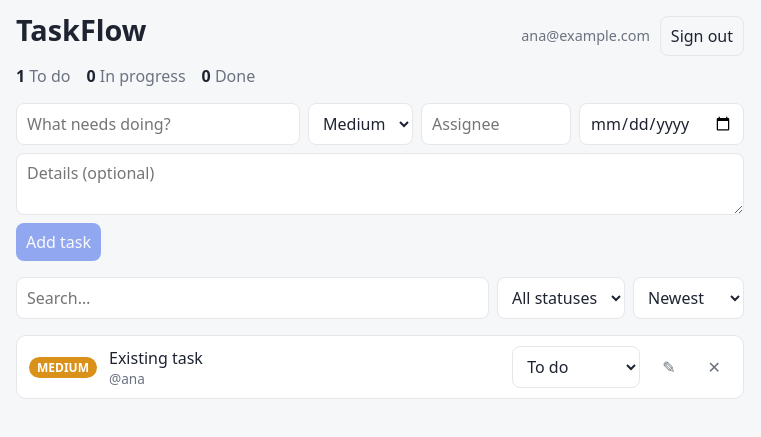
Scenario: tasks › shows an error on the task when deleting fails, and keeps it
Check: the text "Existing task" is shown, box [109,346,203,368]
Click the button named "Delete Existing task": click(714, 367) [698,348,731,386]
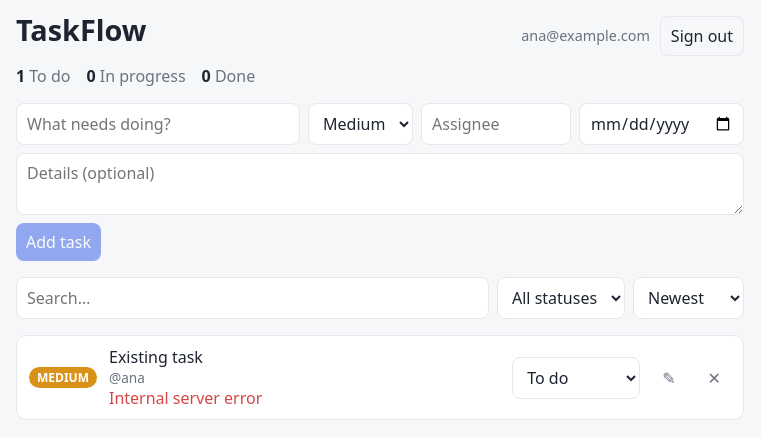
Check: the text "Existing task" is shown, box [109,346,203,368]
Check: the message reads "Internal server error", box [109,387,262,409]
